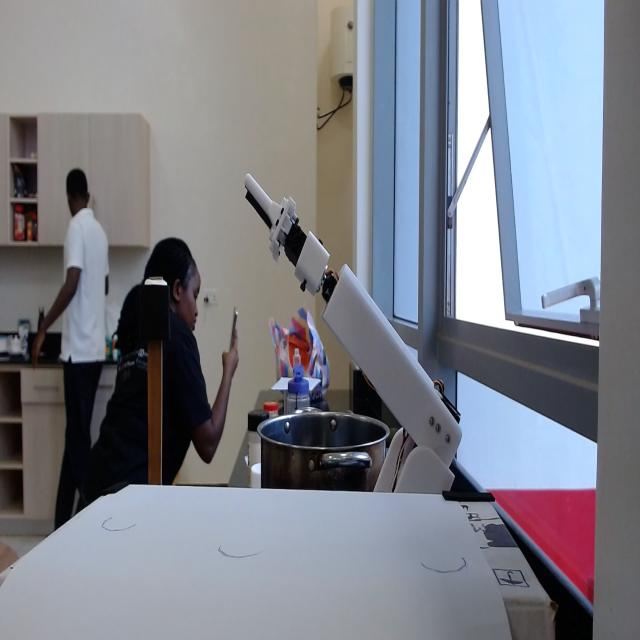cooking_pot: (258, 406, 388, 497)
